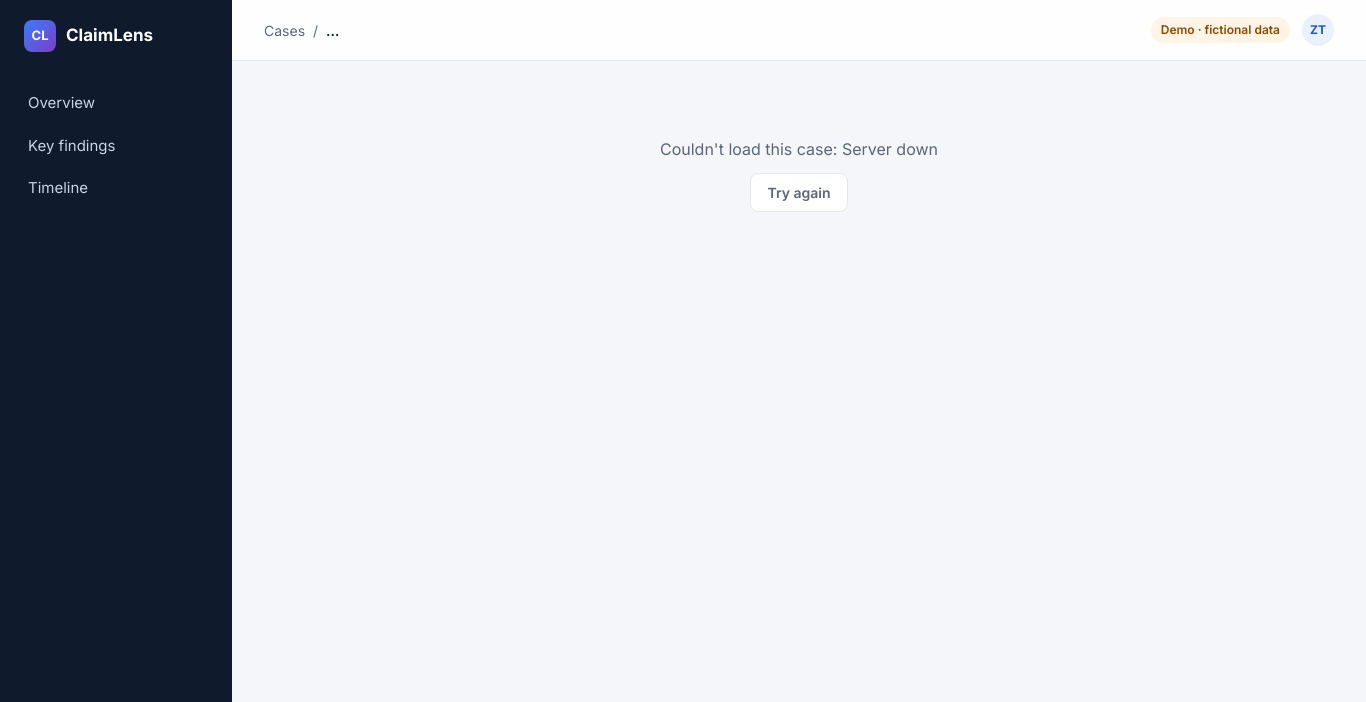
App › shows an error and recovers when the user retries
The image size is (1366, 702).
Check: the message shows "Server down", box [842,139,938,159]
Click the button "Try again": (799, 192) [750,173,848,212]
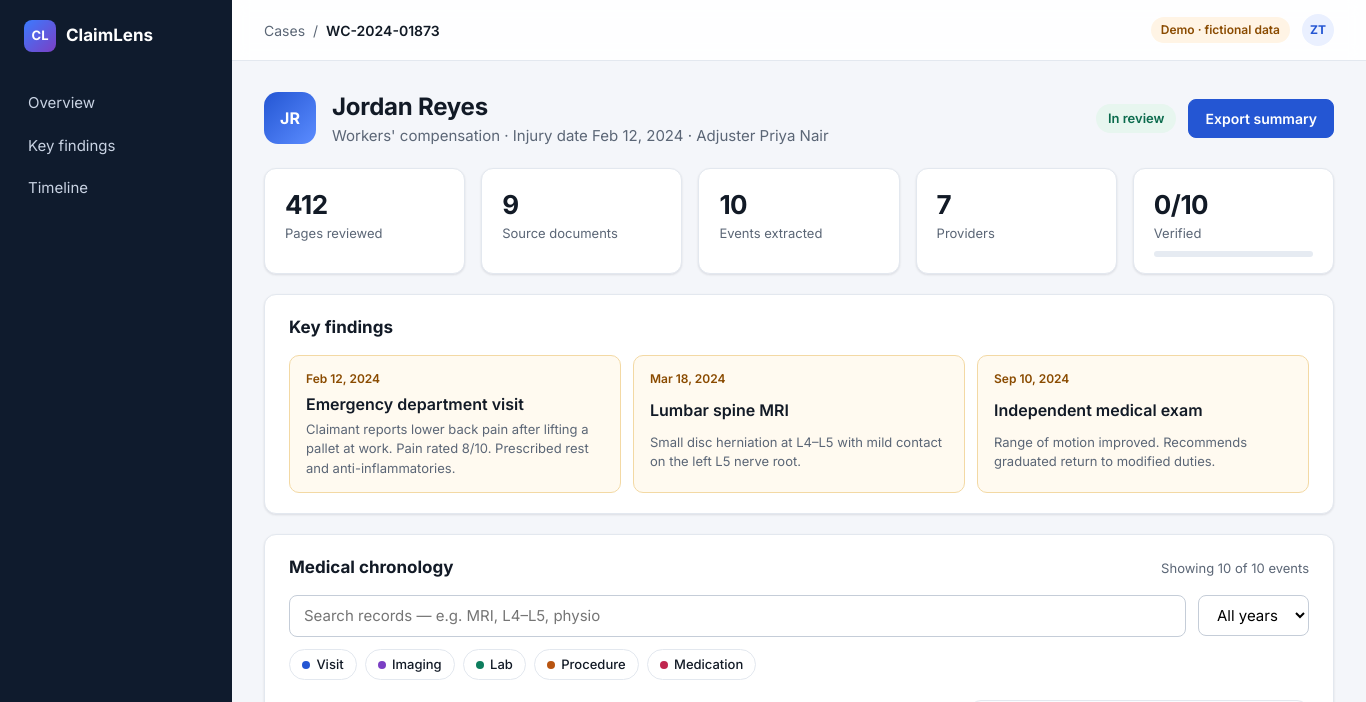
Check: the heading "Jordan Reyes" is shown, box [332,92,488,121]
